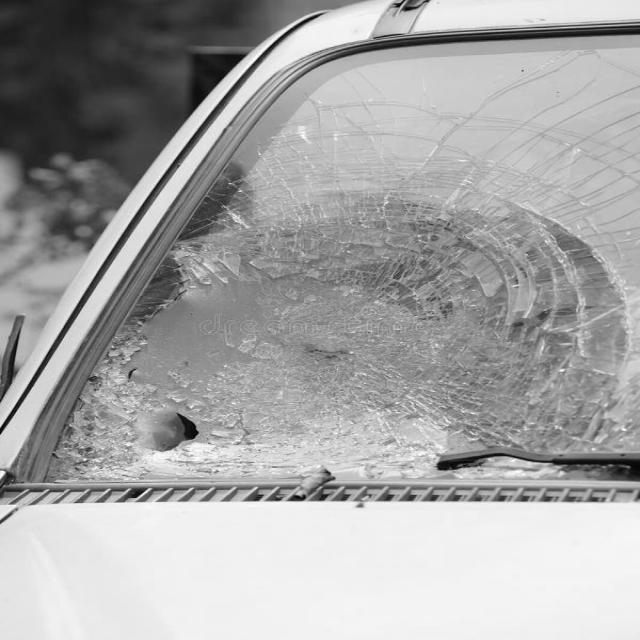crack: (37, 38, 640, 488)
